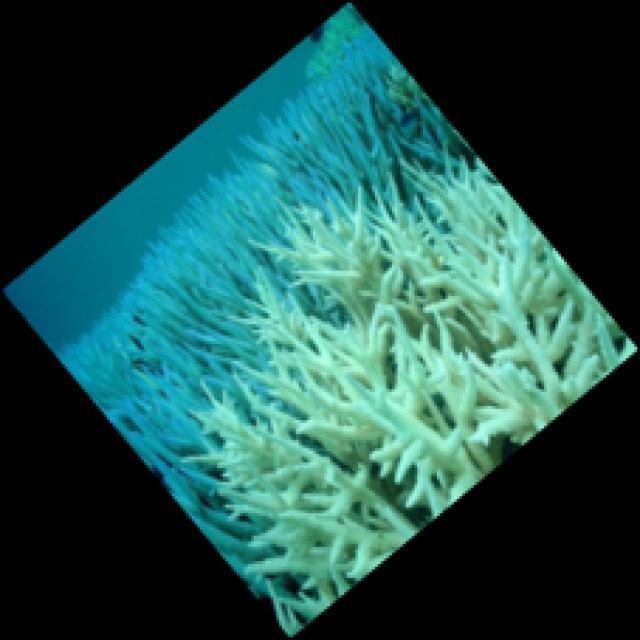Bleached: (56, 28, 485, 604), (197, 158, 640, 640)
